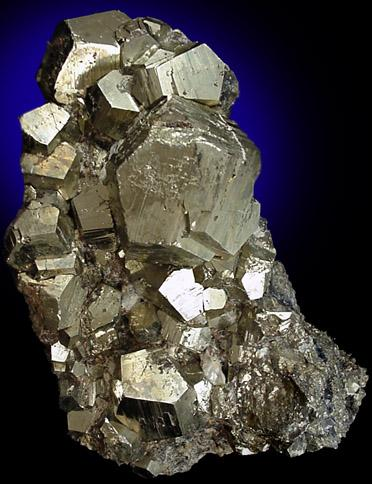pyrite: (4, 10, 261, 432)
